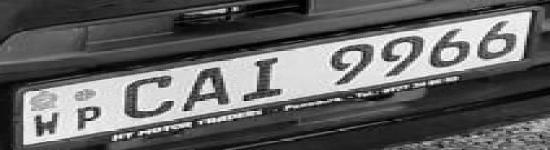6: (474, 17, 520, 61), (427, 26, 472, 70)
9: (326, 41, 378, 87), (376, 33, 428, 79)
A: (182, 66, 234, 112)
C: (123, 73, 178, 119)
I: (238, 54, 290, 102)
P: (72, 104, 108, 132)
W: (32, 110, 62, 138)
